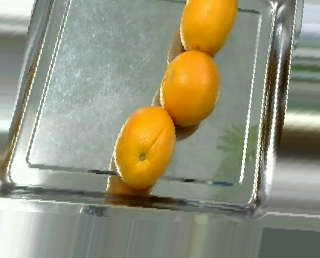Orange: (112, 104, 176, 190), (159, 49, 219, 125), (179, 1, 239, 56)
